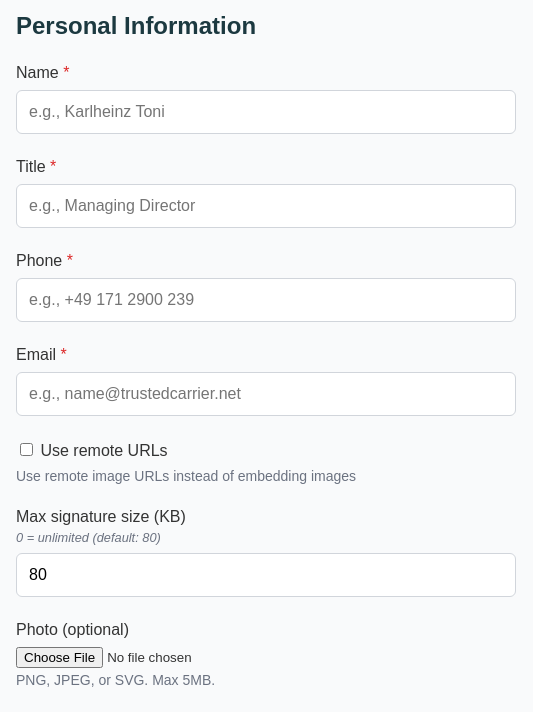
Test: SignatureForm › Remote URLs feature › should switch back to file upload when checkbox is unchecked
Note: Check then uncheck
Click the checkbox labelled "Use remote URLs" at (26,449), box [20,443,33,456]
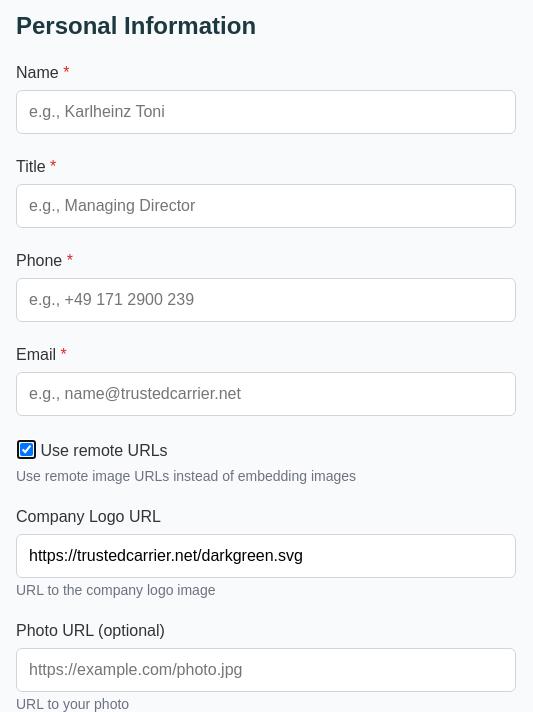
Click the checkbox labelled "Use remote URLs" at (26,449), box [20,443,33,456]
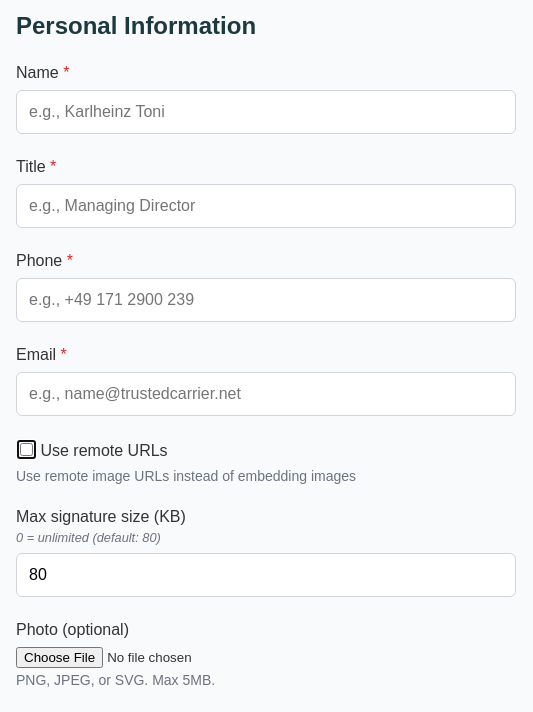
Expected: the file field labelled "Photo (optional)" is shown, [16,647,269,668]
Expected: the label labelled "Photo URL" is gone
